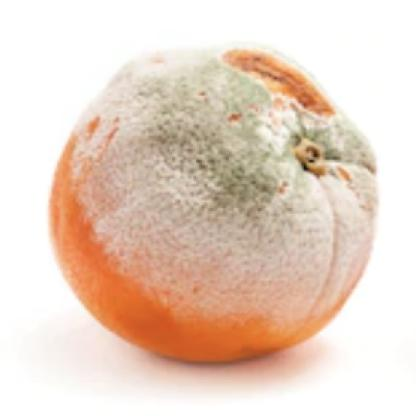rotten: (49, 50, 381, 365)
